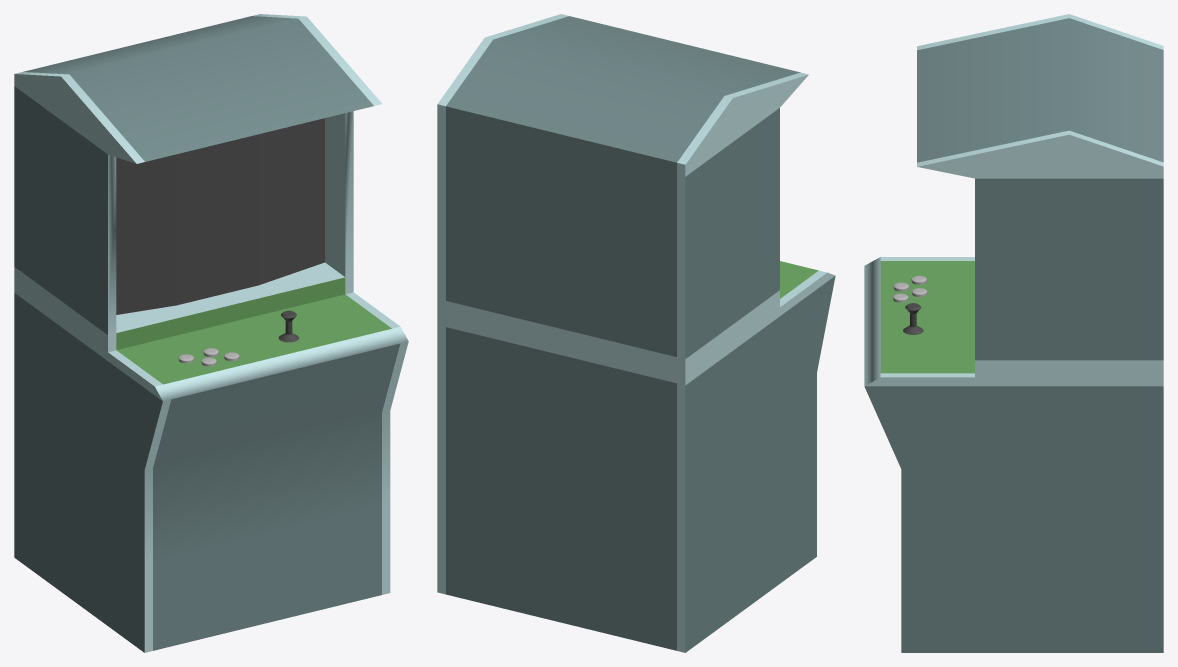
File: ArcadeBox.fbx
The picture shows the model from 3 angles, left to right: view 1: azimuth 30°, elevation 25°; view 2: azimuth 150°, elevation 25°; view 3: azimuth 270°, elevation 25°; orthographic projection.
Visible parts, largest first — view 1: pCube1; view 2: pCube1; view 3: pCube1.
Part boxes in pixels (bbox=[...]): pCube1: bbox=[14, 14, 408, 652]; pCube1: bbox=[437, 14, 835, 652]; pCube1: bbox=[864, 14, 1163, 652].
Size of the model in its own units: 8.03 by 16.08 by 8.41.
